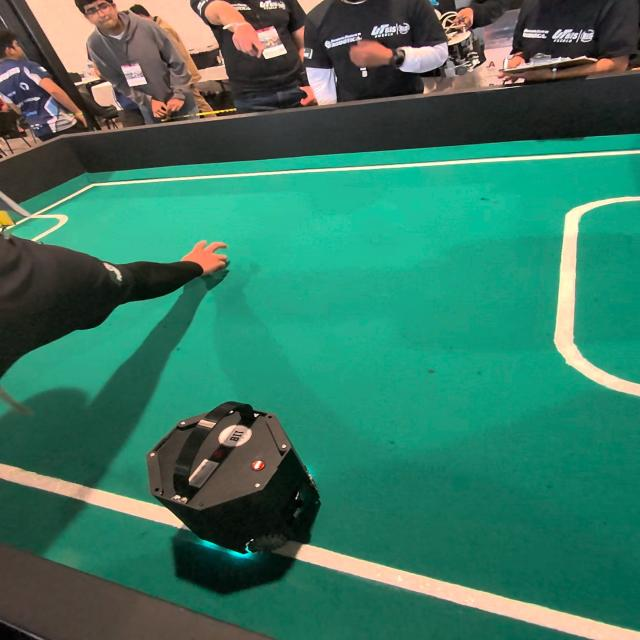Robot: (150, 391, 338, 580)
